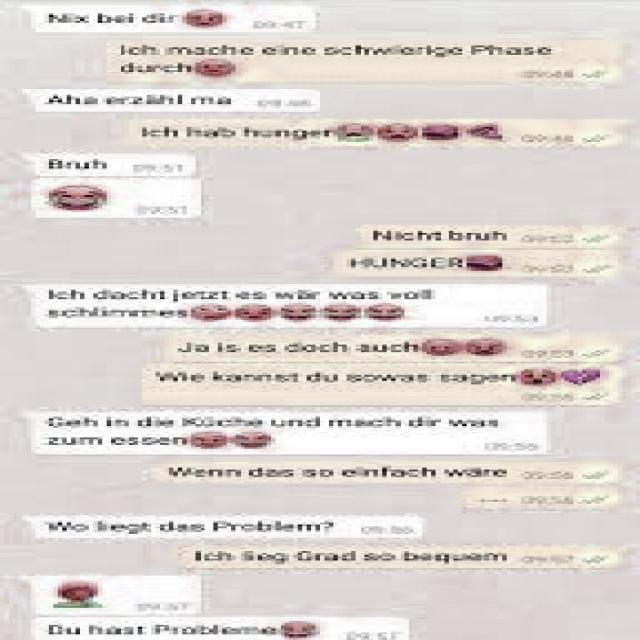scam: (24, 411, 536, 454), (24, 280, 462, 326), (31, 611, 337, 640), (38, 512, 379, 538), (31, 0, 262, 32), (28, 87, 267, 112), (21, 581, 133, 619), (29, 182, 134, 217), (28, 152, 136, 176)
